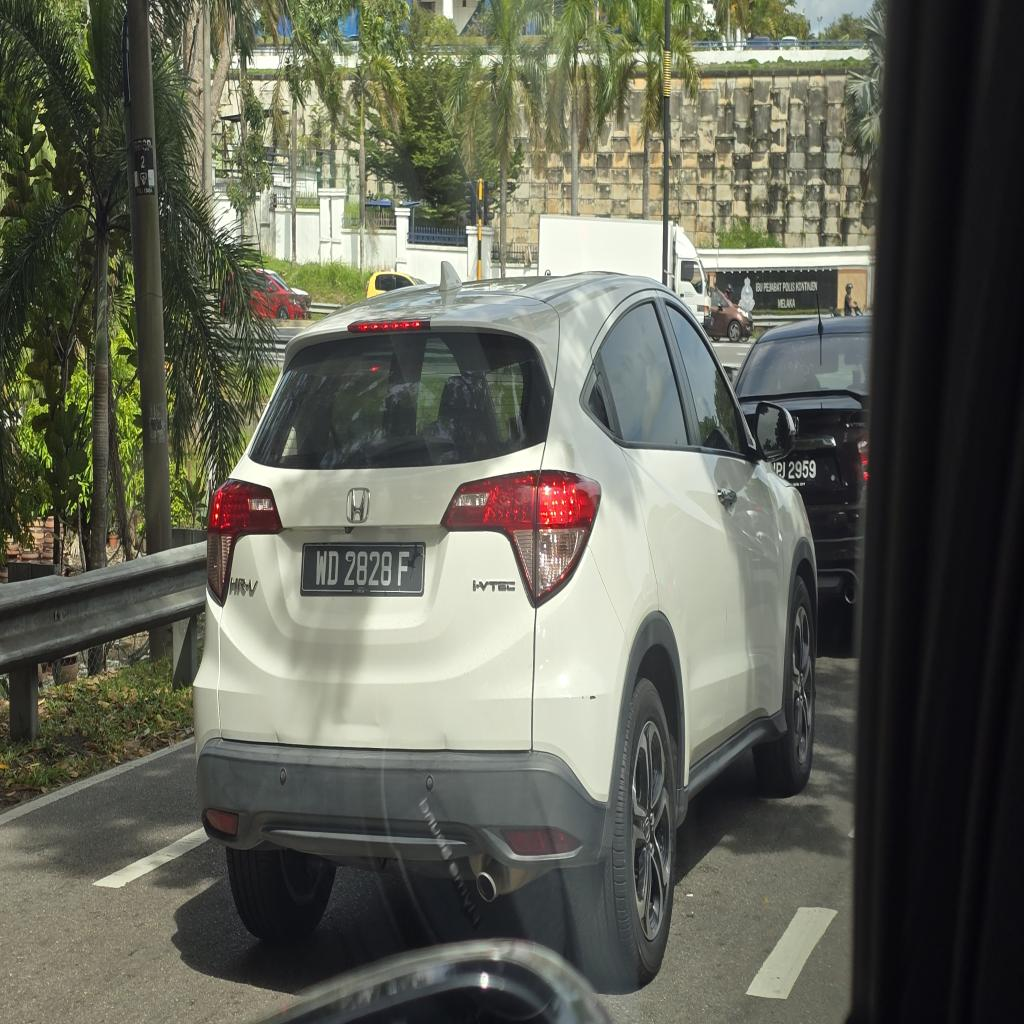car: (194, 265, 816, 988)
car plate: (301, 543, 424, 595)
